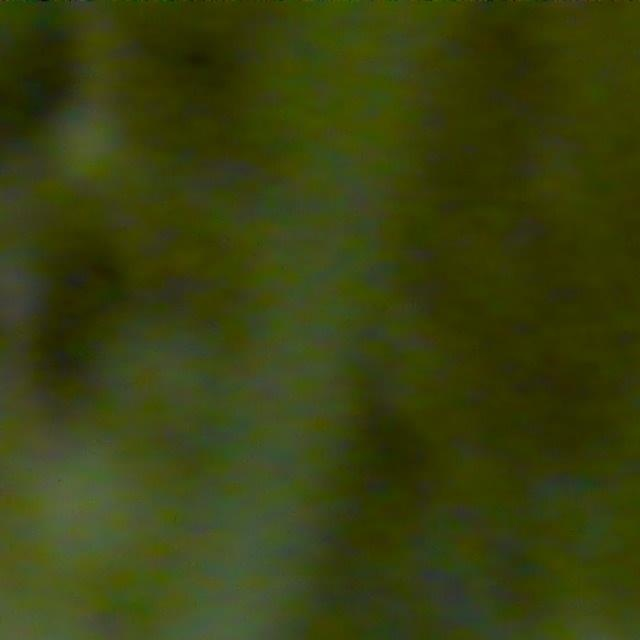SeaGrape: (28, 446, 196, 610)
